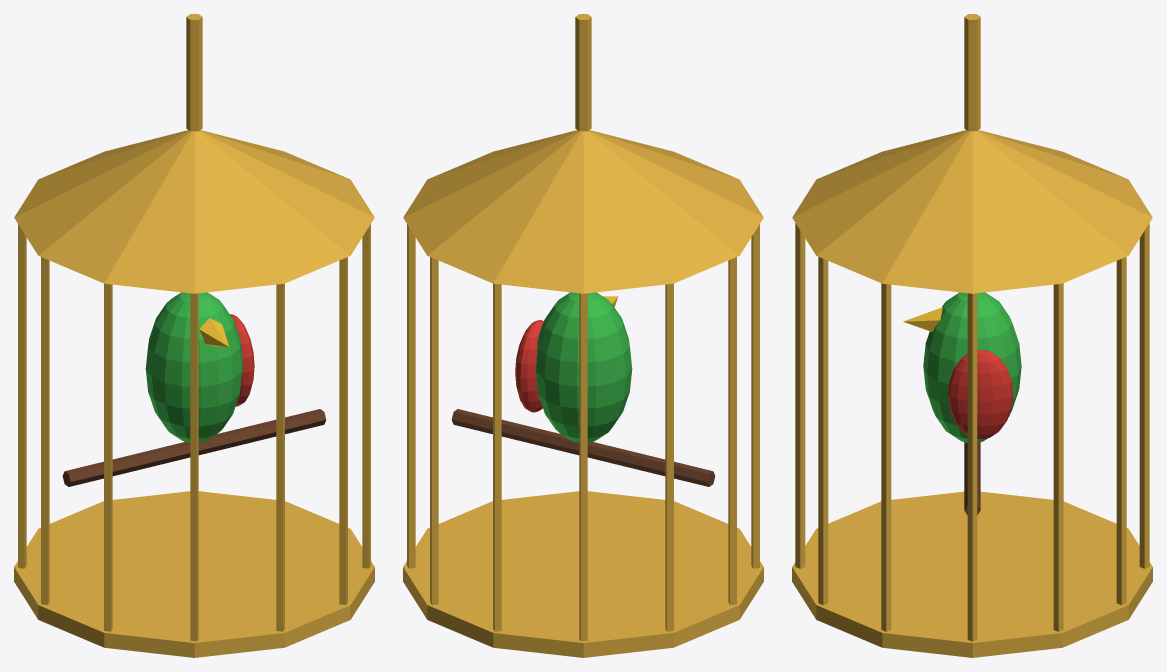
File: pawn_parrot_cage.glb
The picture shows the model from 3 angles, left to right: view 1: azimuth 30°, elevation 25°; view 2: azimuth 150°, elevation 25°; view 3: azimuth 270°, elevation 25°; orthographic projection.
Visible parts, largest first — view 1: top_pawn_brass, floor_pawn_brass, bar_pawn_brass (×7), parrot_parrot_green, perch_pawn_wood, hook_pawn_brass, wing_parrot_red, beak_parrot_beak; view 2: top_pawn_brass, floor_pawn_brass, bar_pawn_brass (×7), parrot_parrot_green, perch_pawn_wood, hook_pawn_brass, wing_parrot_red; view 3: top_pawn_brass, floor_pawn_brass, bar_pawn_brass (×7), parrot_parrot_green, wing_parrot_red, hook_pawn_brass, perch_pawn_wood.
Part boxes in pixels (x1,y1,x2,y2): top_pawn_brass: [14, 130, 374, 293]; floor_pawn_brass: [14, 491, 374, 657]; bar_pawn_brass (×7): [18, 224, 370, 641]; parrot_parrot_green: [145, 292, 242, 442]; perch_pawn_wood: [62, 409, 326, 486]; hook_pawn_brass: [186, 14, 202, 131]; wing_parrot_red: [230, 314, 254, 406]; beak_parrot_beak: [199, 318, 228, 347]; top_pawn_brass: [403, 130, 763, 293]; floor_pawn_brass: [403, 491, 763, 657]; bar_pawn_brass (×7): [407, 224, 759, 641]; parrot_parrot_green: [535, 292, 632, 442]; perch_pawn_wood: [451, 409, 715, 486]; hook_pawn_brass: [575, 14, 591, 131]; wing_parrot_red: [515, 320, 543, 412]; top_pawn_brass: [792, 130, 1152, 293]; floor_pawn_brass: [792, 491, 1152, 657]; bar_pawn_brass (×7): [795, 223, 1149, 641]; parrot_parrot_green: [923, 292, 1021, 442]; wing_parrot_red: [948, 350, 1013, 438]; hook_pawn_brass: [964, 14, 980, 131]; perch_pawn_wood: [964, 442, 980, 514].
Size of the model in its own units: 0.44 by 0.76 by 0.44.
